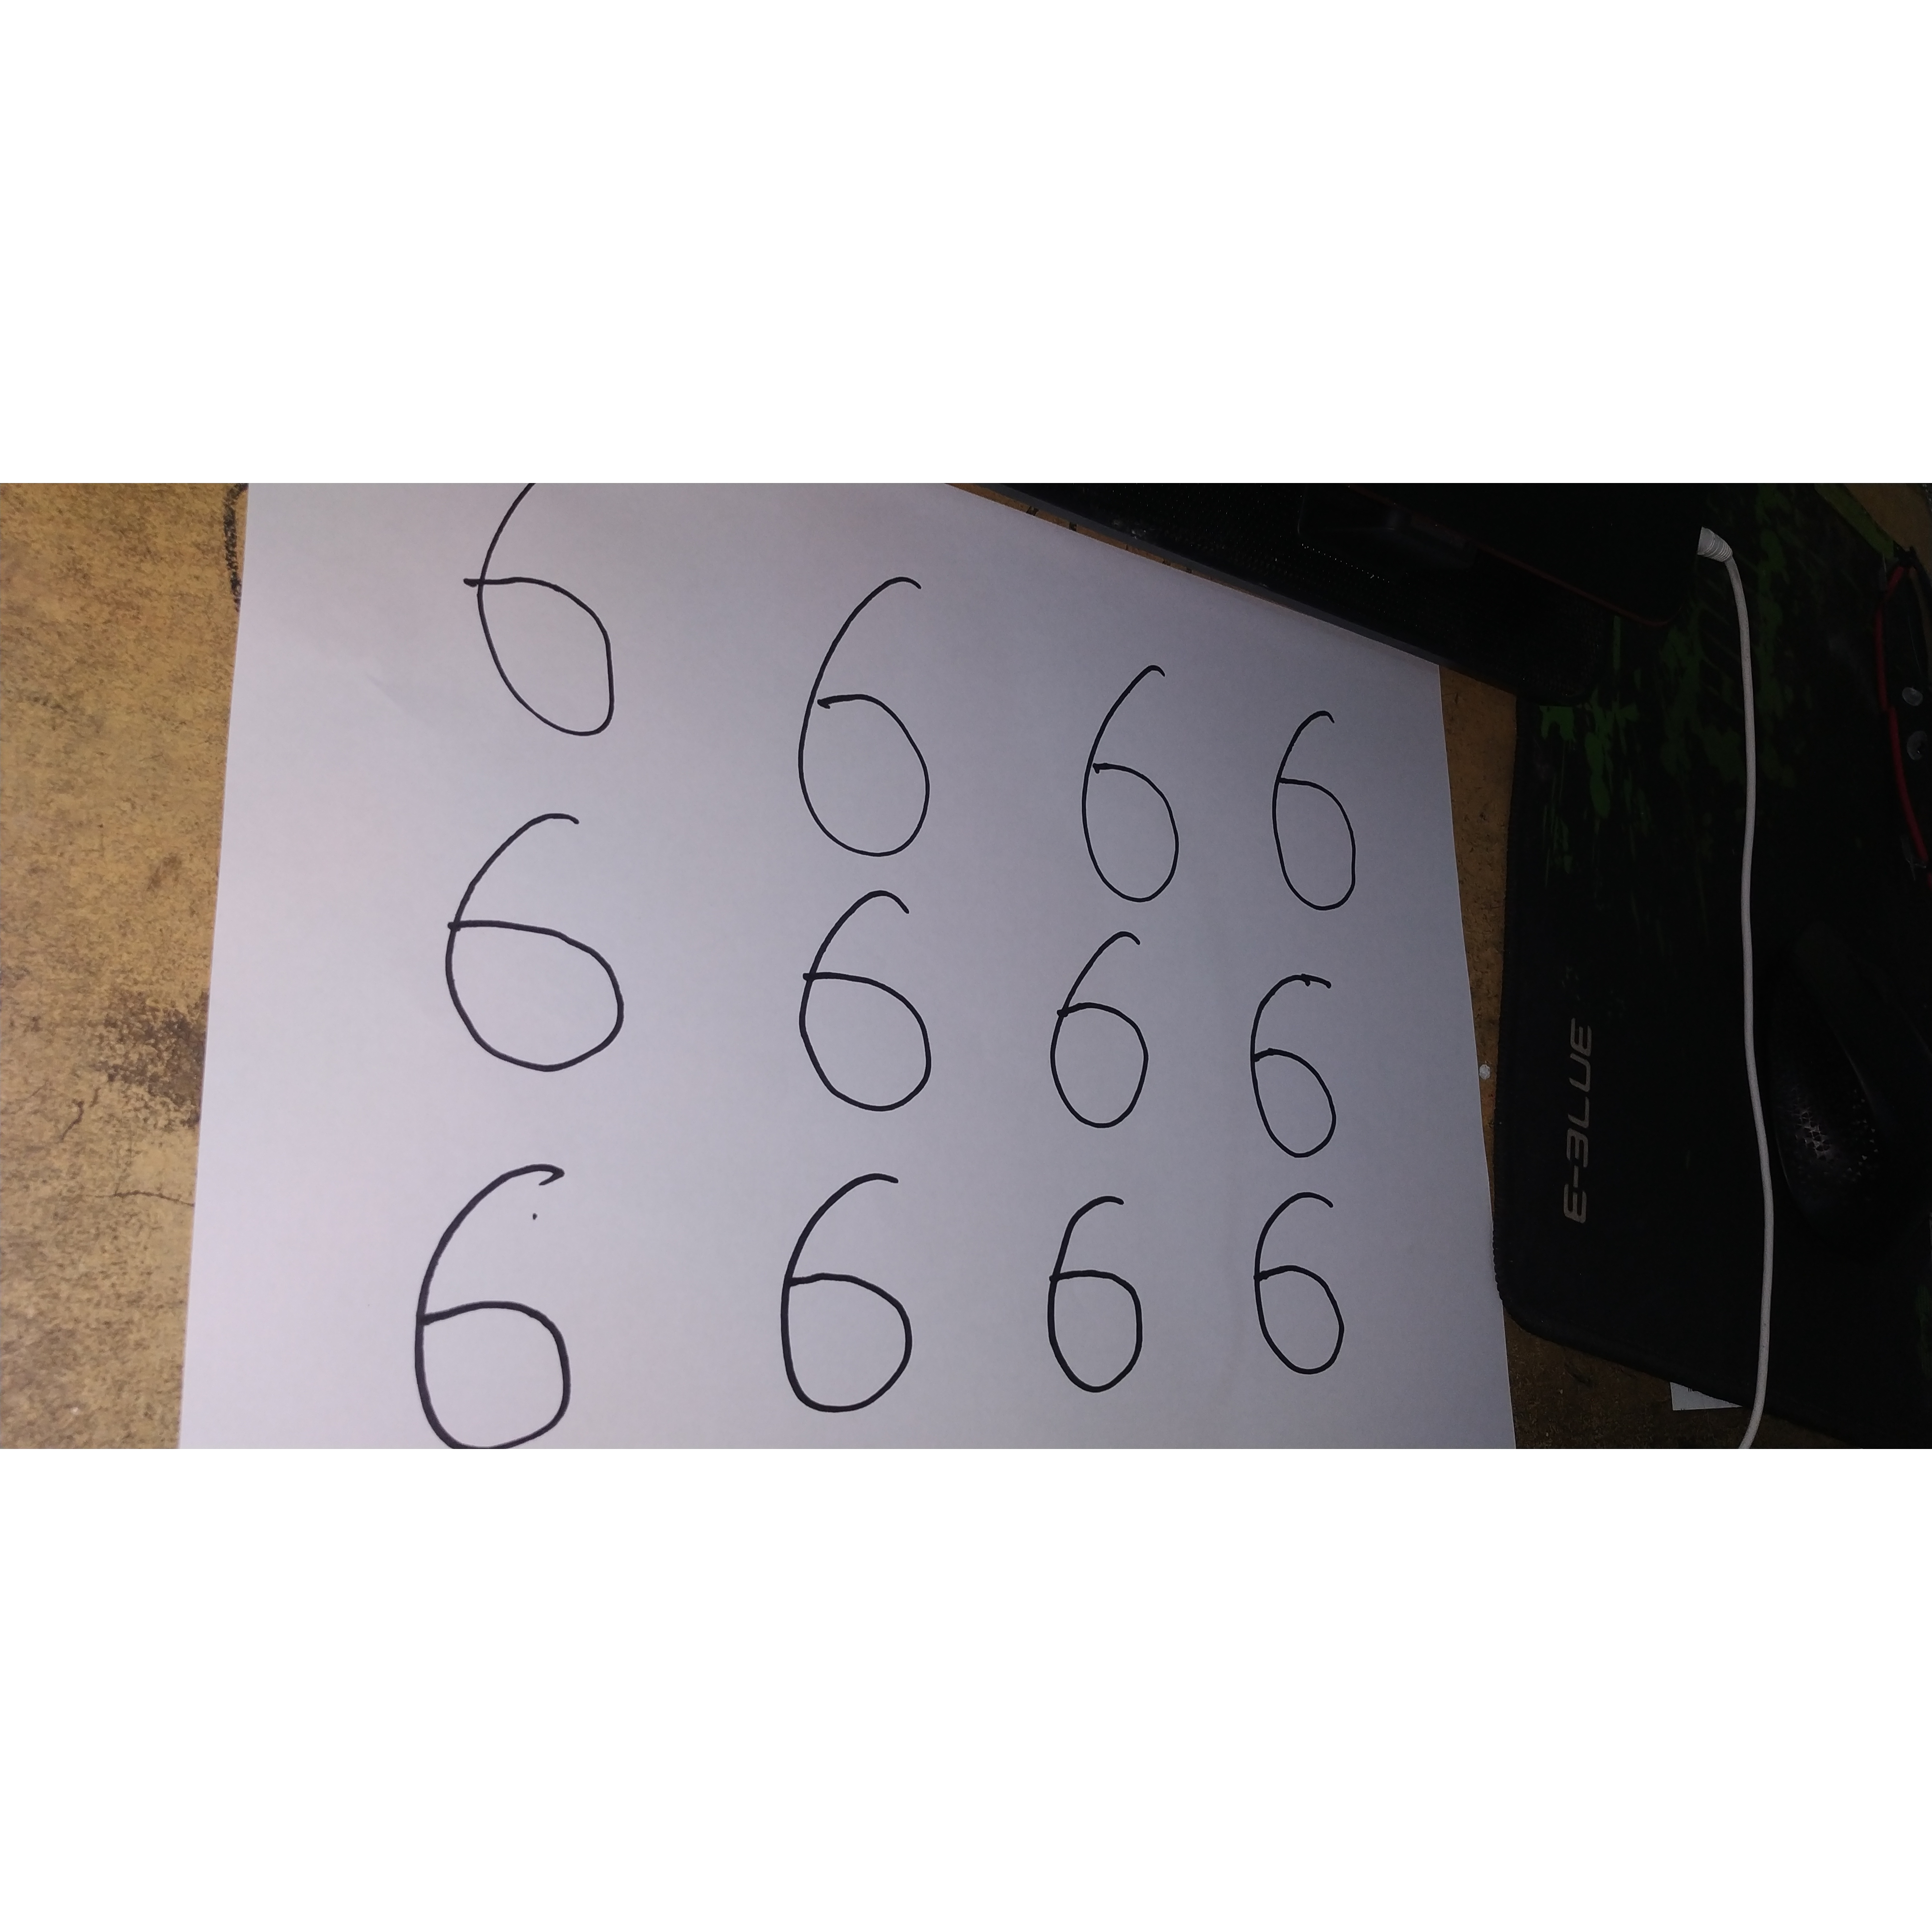num6: (369, 1144, 616, 1449), (410, 785, 654, 1086), (753, 544, 969, 867), (767, 1155, 939, 1424), (1053, 634, 1210, 926), (769, 884, 946, 1134), (1034, 1184, 1185, 1401), (1036, 930, 1183, 1151), (1254, 699, 1389, 937), (1227, 970, 1378, 1178), (1244, 1182, 1374, 1392)
